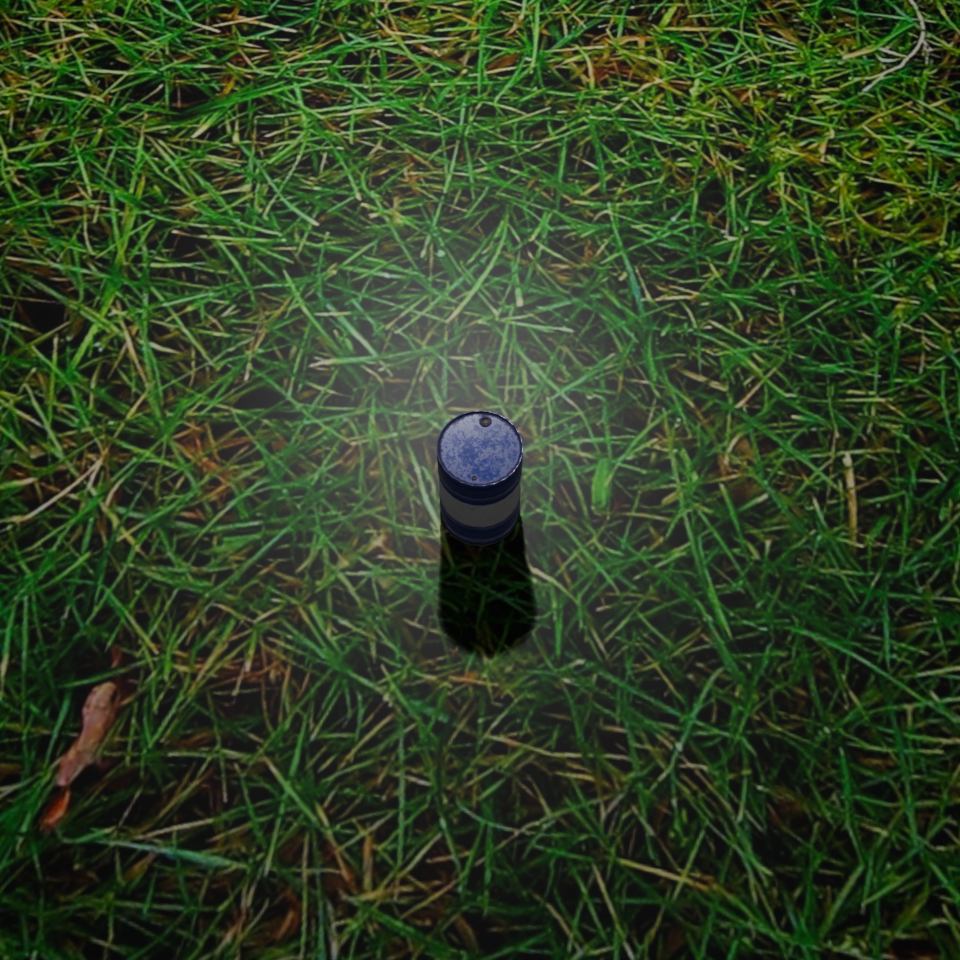circle: (436, 409, 522, 547)
